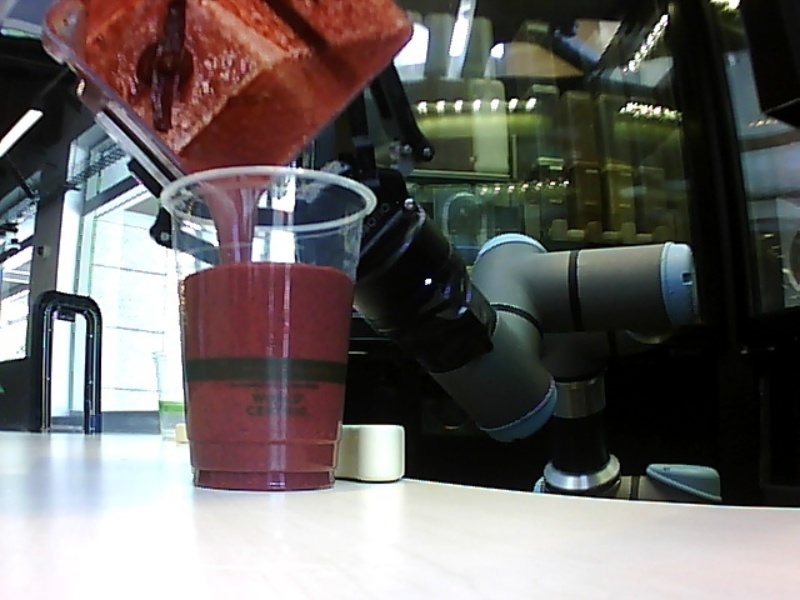cup: (155, 159, 378, 496)
limit: (175, 250, 357, 287)
